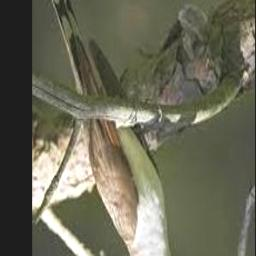Cuckoo: (41, 0, 200, 256)
